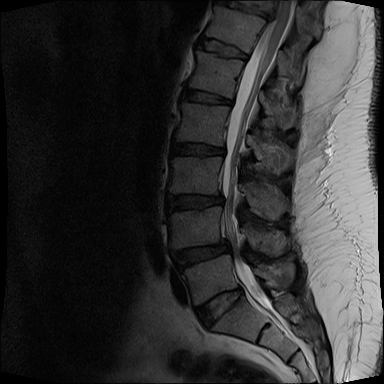Degenerative Disc Disease (DDD): (173, 79, 237, 113), (190, 31, 252, 65)
Lumbar Disc Bulge (LDB): (166, 226, 235, 276), (159, 183, 232, 219), (163, 130, 234, 164)
Normal IVD: (190, 277, 246, 336)
Spinal Stenosis (SS): (202, 179, 234, 218), (209, 228, 234, 270), (210, 128, 236, 168)
Spondylolisthesis: (160, 230, 250, 289)
Thoracic Disc Bulge (TDB): (204, 1, 276, 23)
